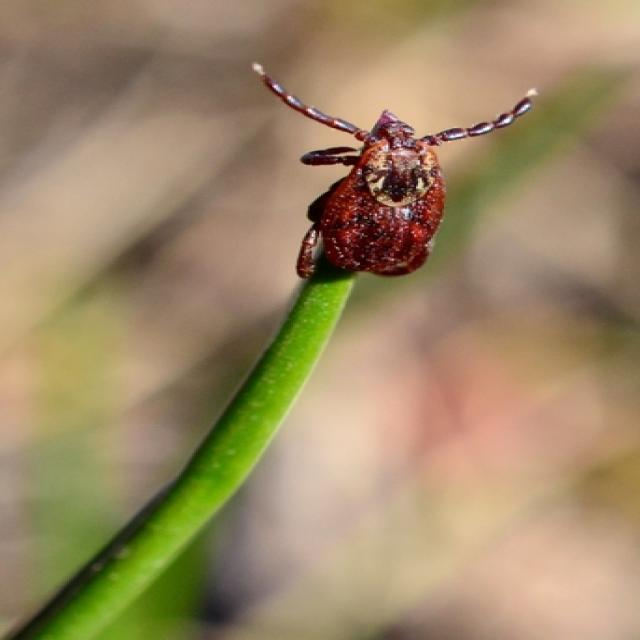Dermacentor Reticulatus-F: (250, 64, 536, 280)
